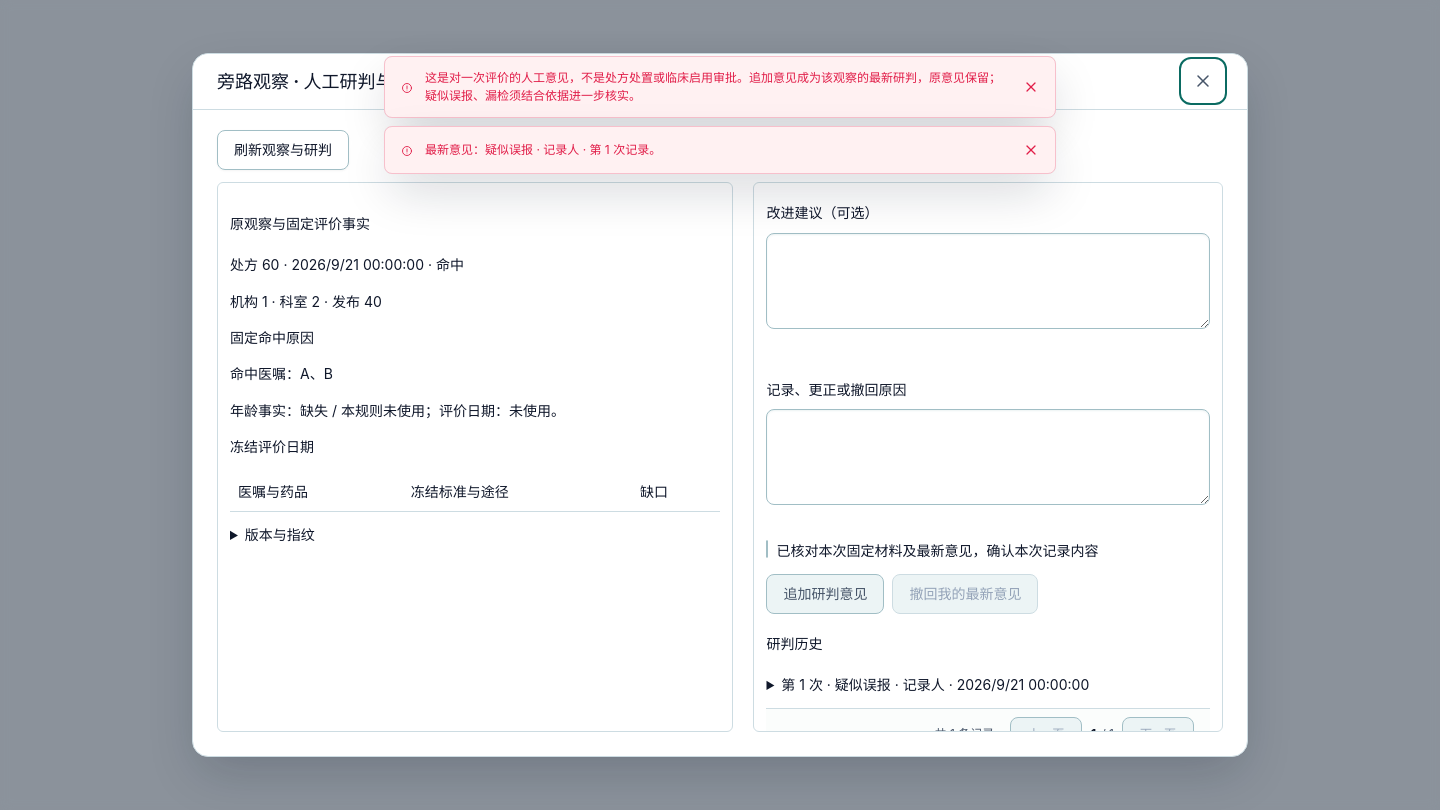
it: withdraws only with explicit reason and retains the old opinion in history
(page scrolled)
Expected: the button "撤回我的最新意见" is disabled, [892,574,1038,614]
In the text box labelled "记录、更正或撤回原因": (988, 457) [766,409,1210,505], type "需补充核实"
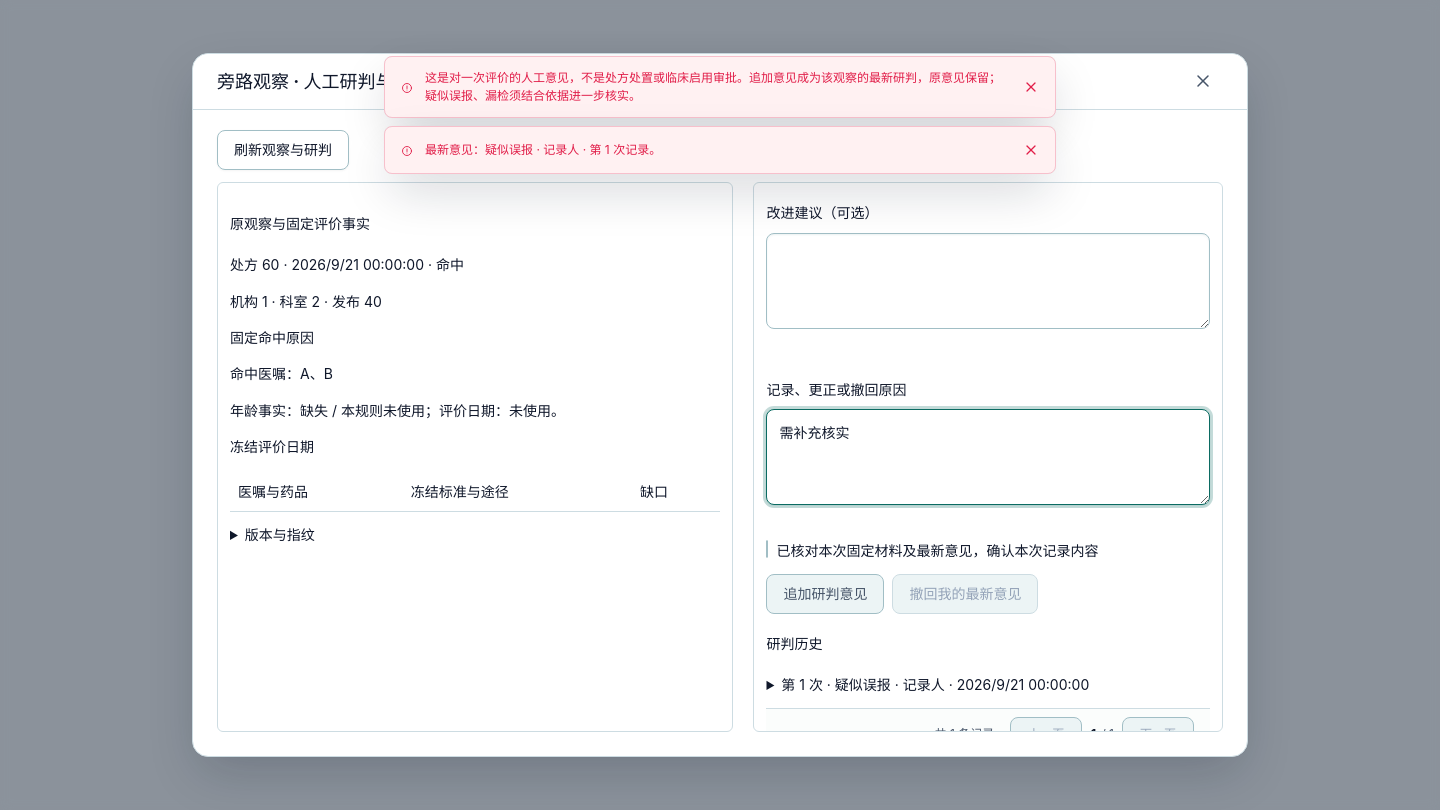
Click the checkbox: (768, 549) [766,540,768,558]
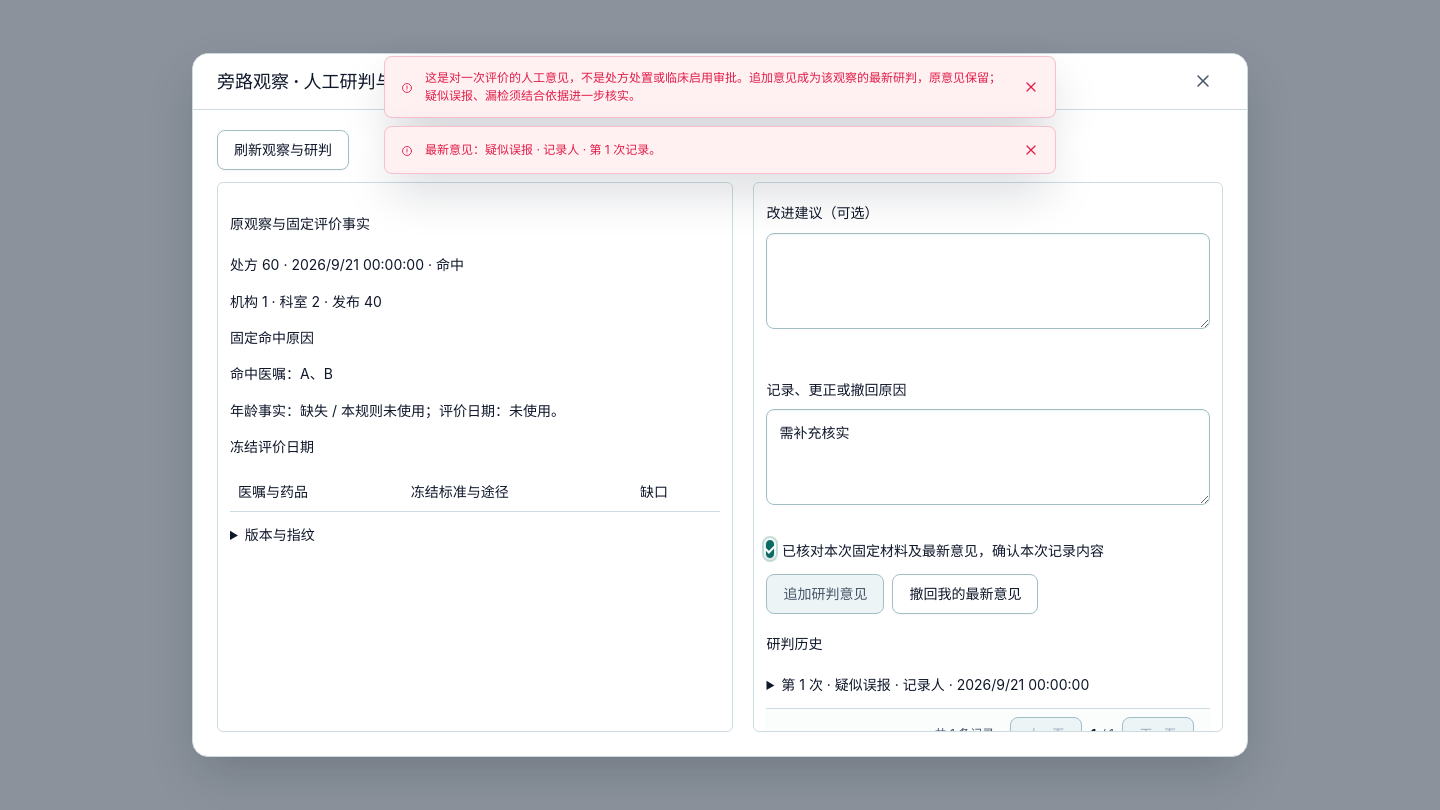
Click the button "撤回我的最新意见": (966, 594) [892,574,1038,614]
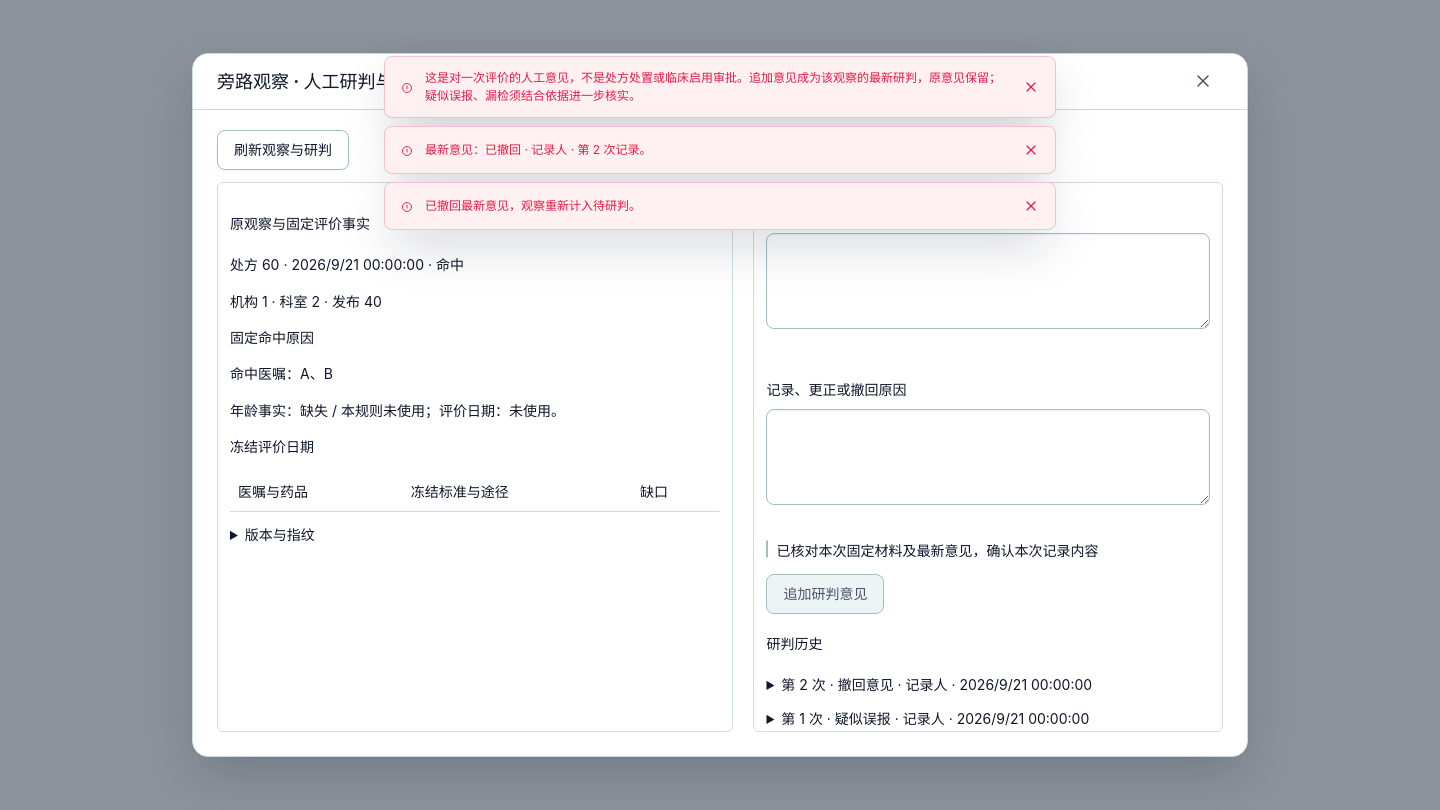
Expected: the text "已撤回最新意见，观察重新计入待研判。" is shown, [425,198,641,213]
Expected: the button "撤回我的最新意见" is gone
